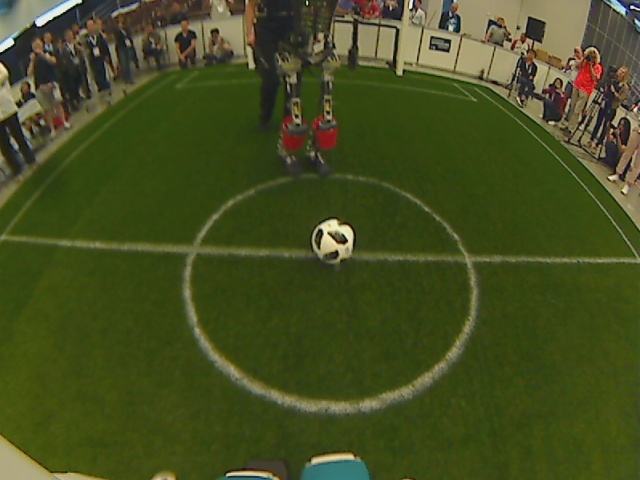ball: (306, 217, 358, 265)
